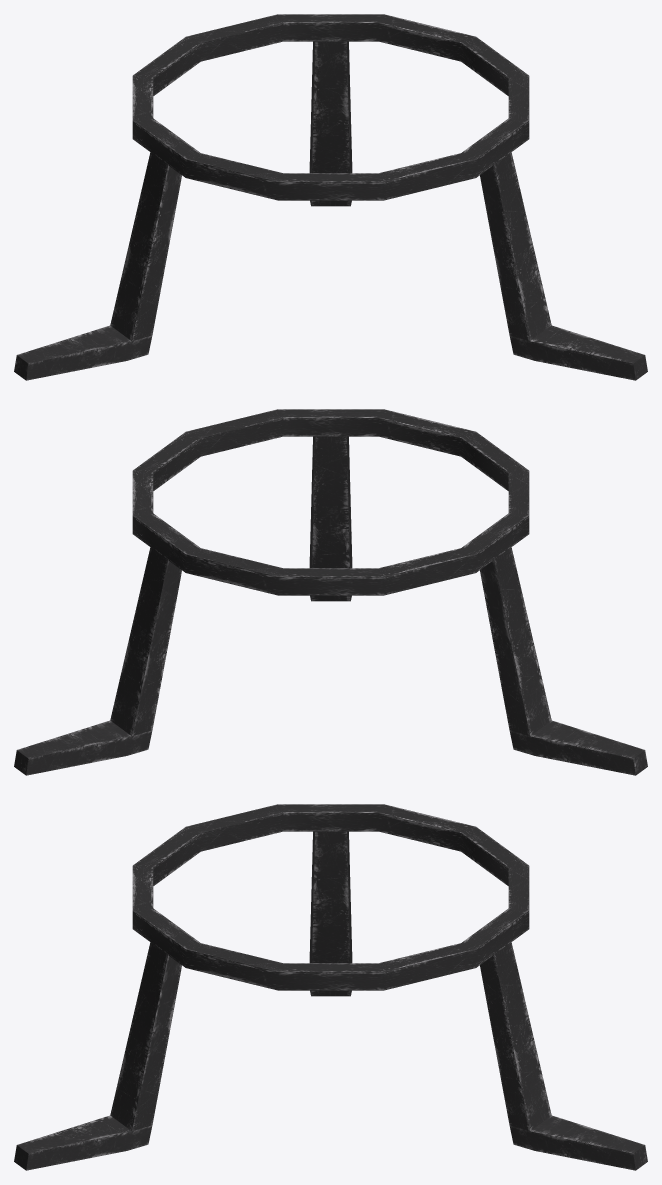
The model's file is trivet.glb.
3 renders of one model, top to bottom at view 1: azimuth 30°, elevation 25°; view 2: azimuth 150°, elevation 25°; view 3: azimuth 270°, elevation 25°, orthographic.
Parts seen in each view (by area): view 1: Object_4; view 2: Object_4; view 3: Object_4.
Boxes of the visible parts, x1=… form: Object_4: x1=14, y1=14, x2=647, y2=380; Object_4: x1=14, y1=409, x2=647, y2=775; Object_4: x1=14, y1=804, x2=647, y2=1170.
Size of the model in its own units: 0.4072 by 0.1631 by 0.4632.
Materials: 1 (1 with a texture image).
